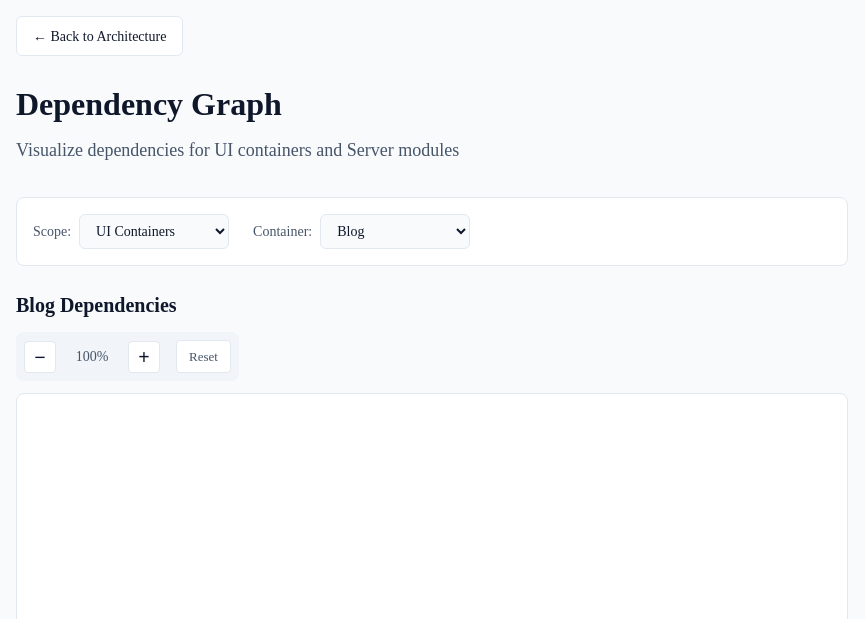
DependenciesContainer › should zoom out when zoom out button is clicked
The width and height of the screenshot is (865, 619).
Expected: the text "100%" is shown, [76,349,108,364]
Step 1. Click the button named "Zoom out" → (40, 356), box [24,340,56,372]
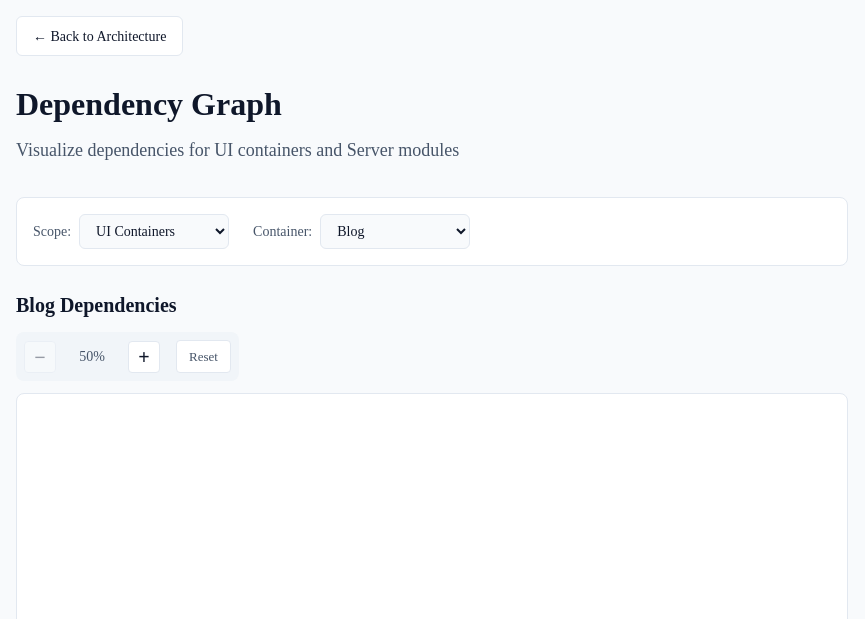
Result: the text "50%" is shown at [79,349,105,364]
